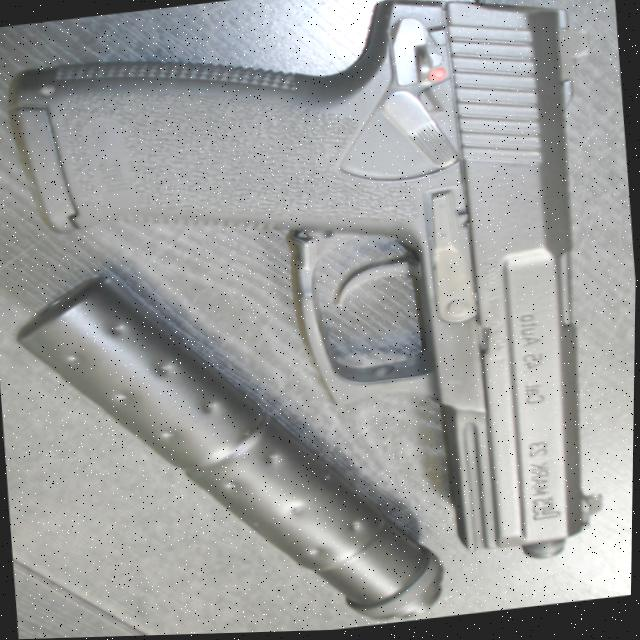pistol: (3, 0, 612, 616)
